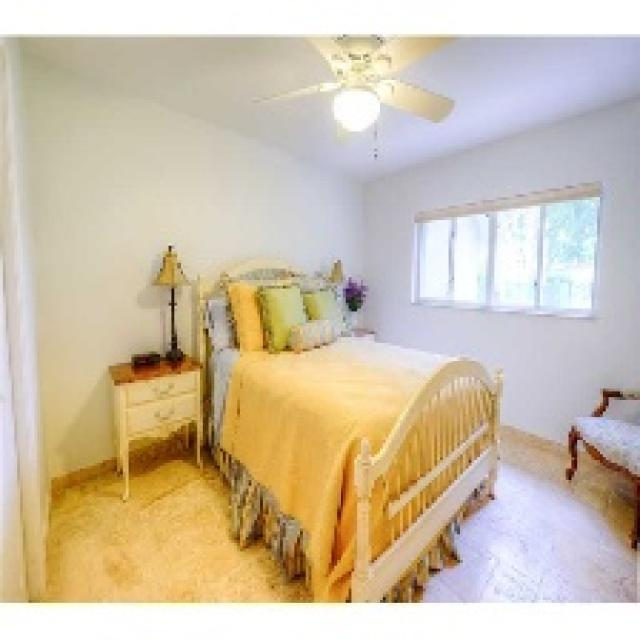Bed: (188, 257, 503, 600)
